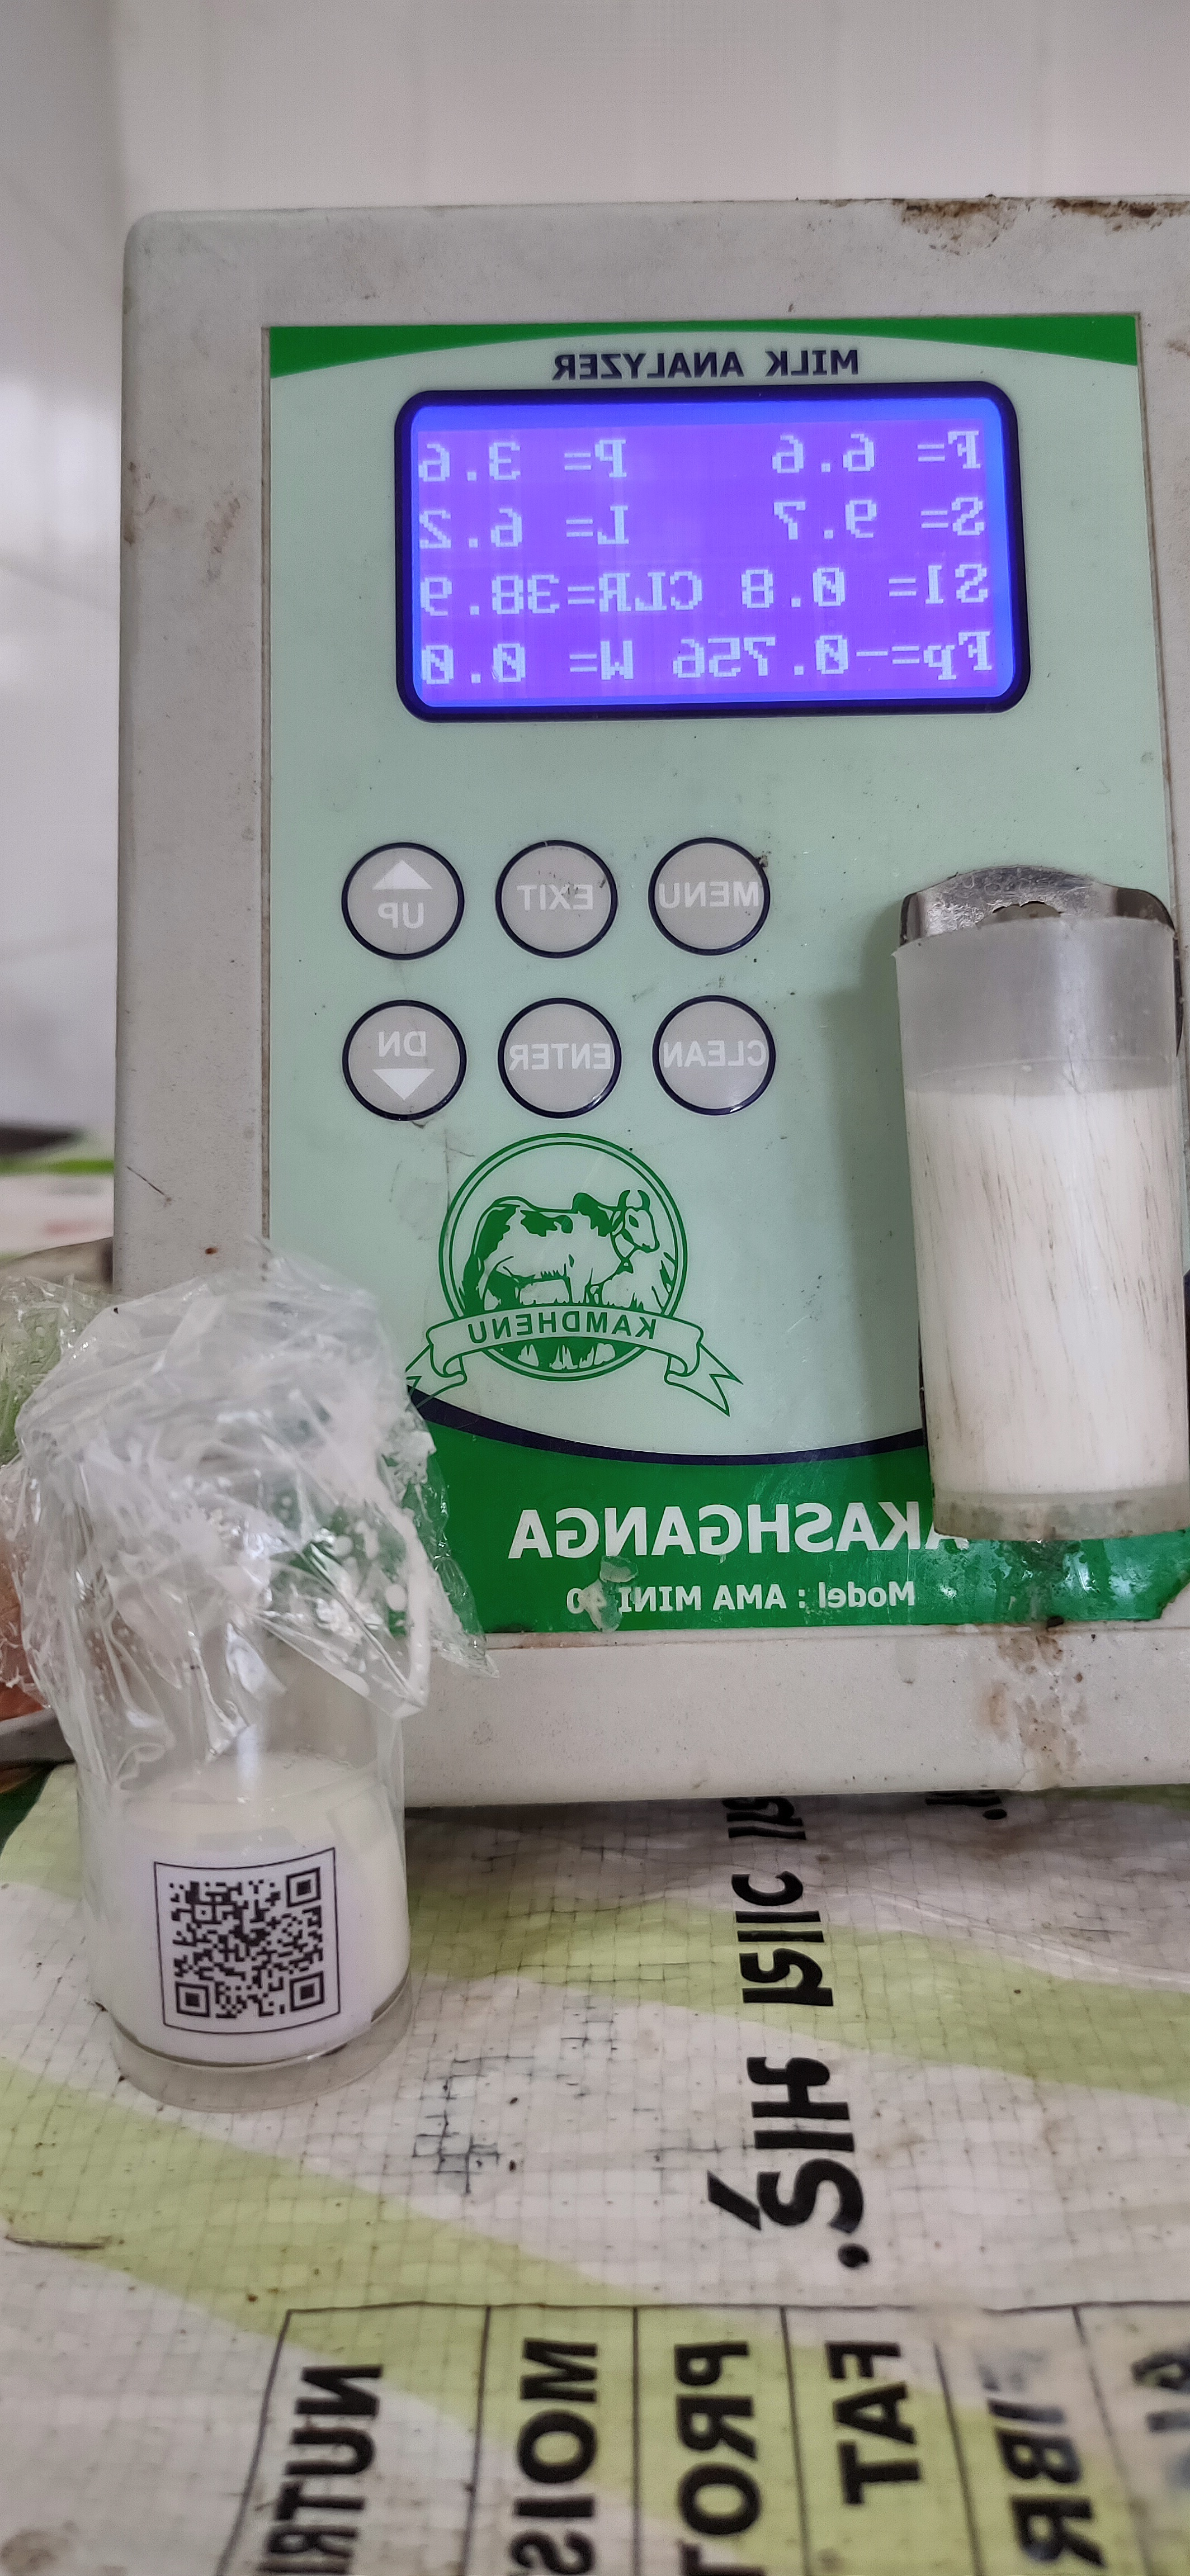lcd: (393, 384, 1035, 728)
qr: (153, 1847, 357, 2062)
